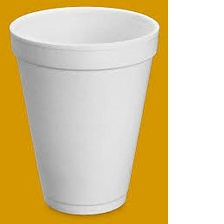paper_cup: (5, 1, 162, 219)
